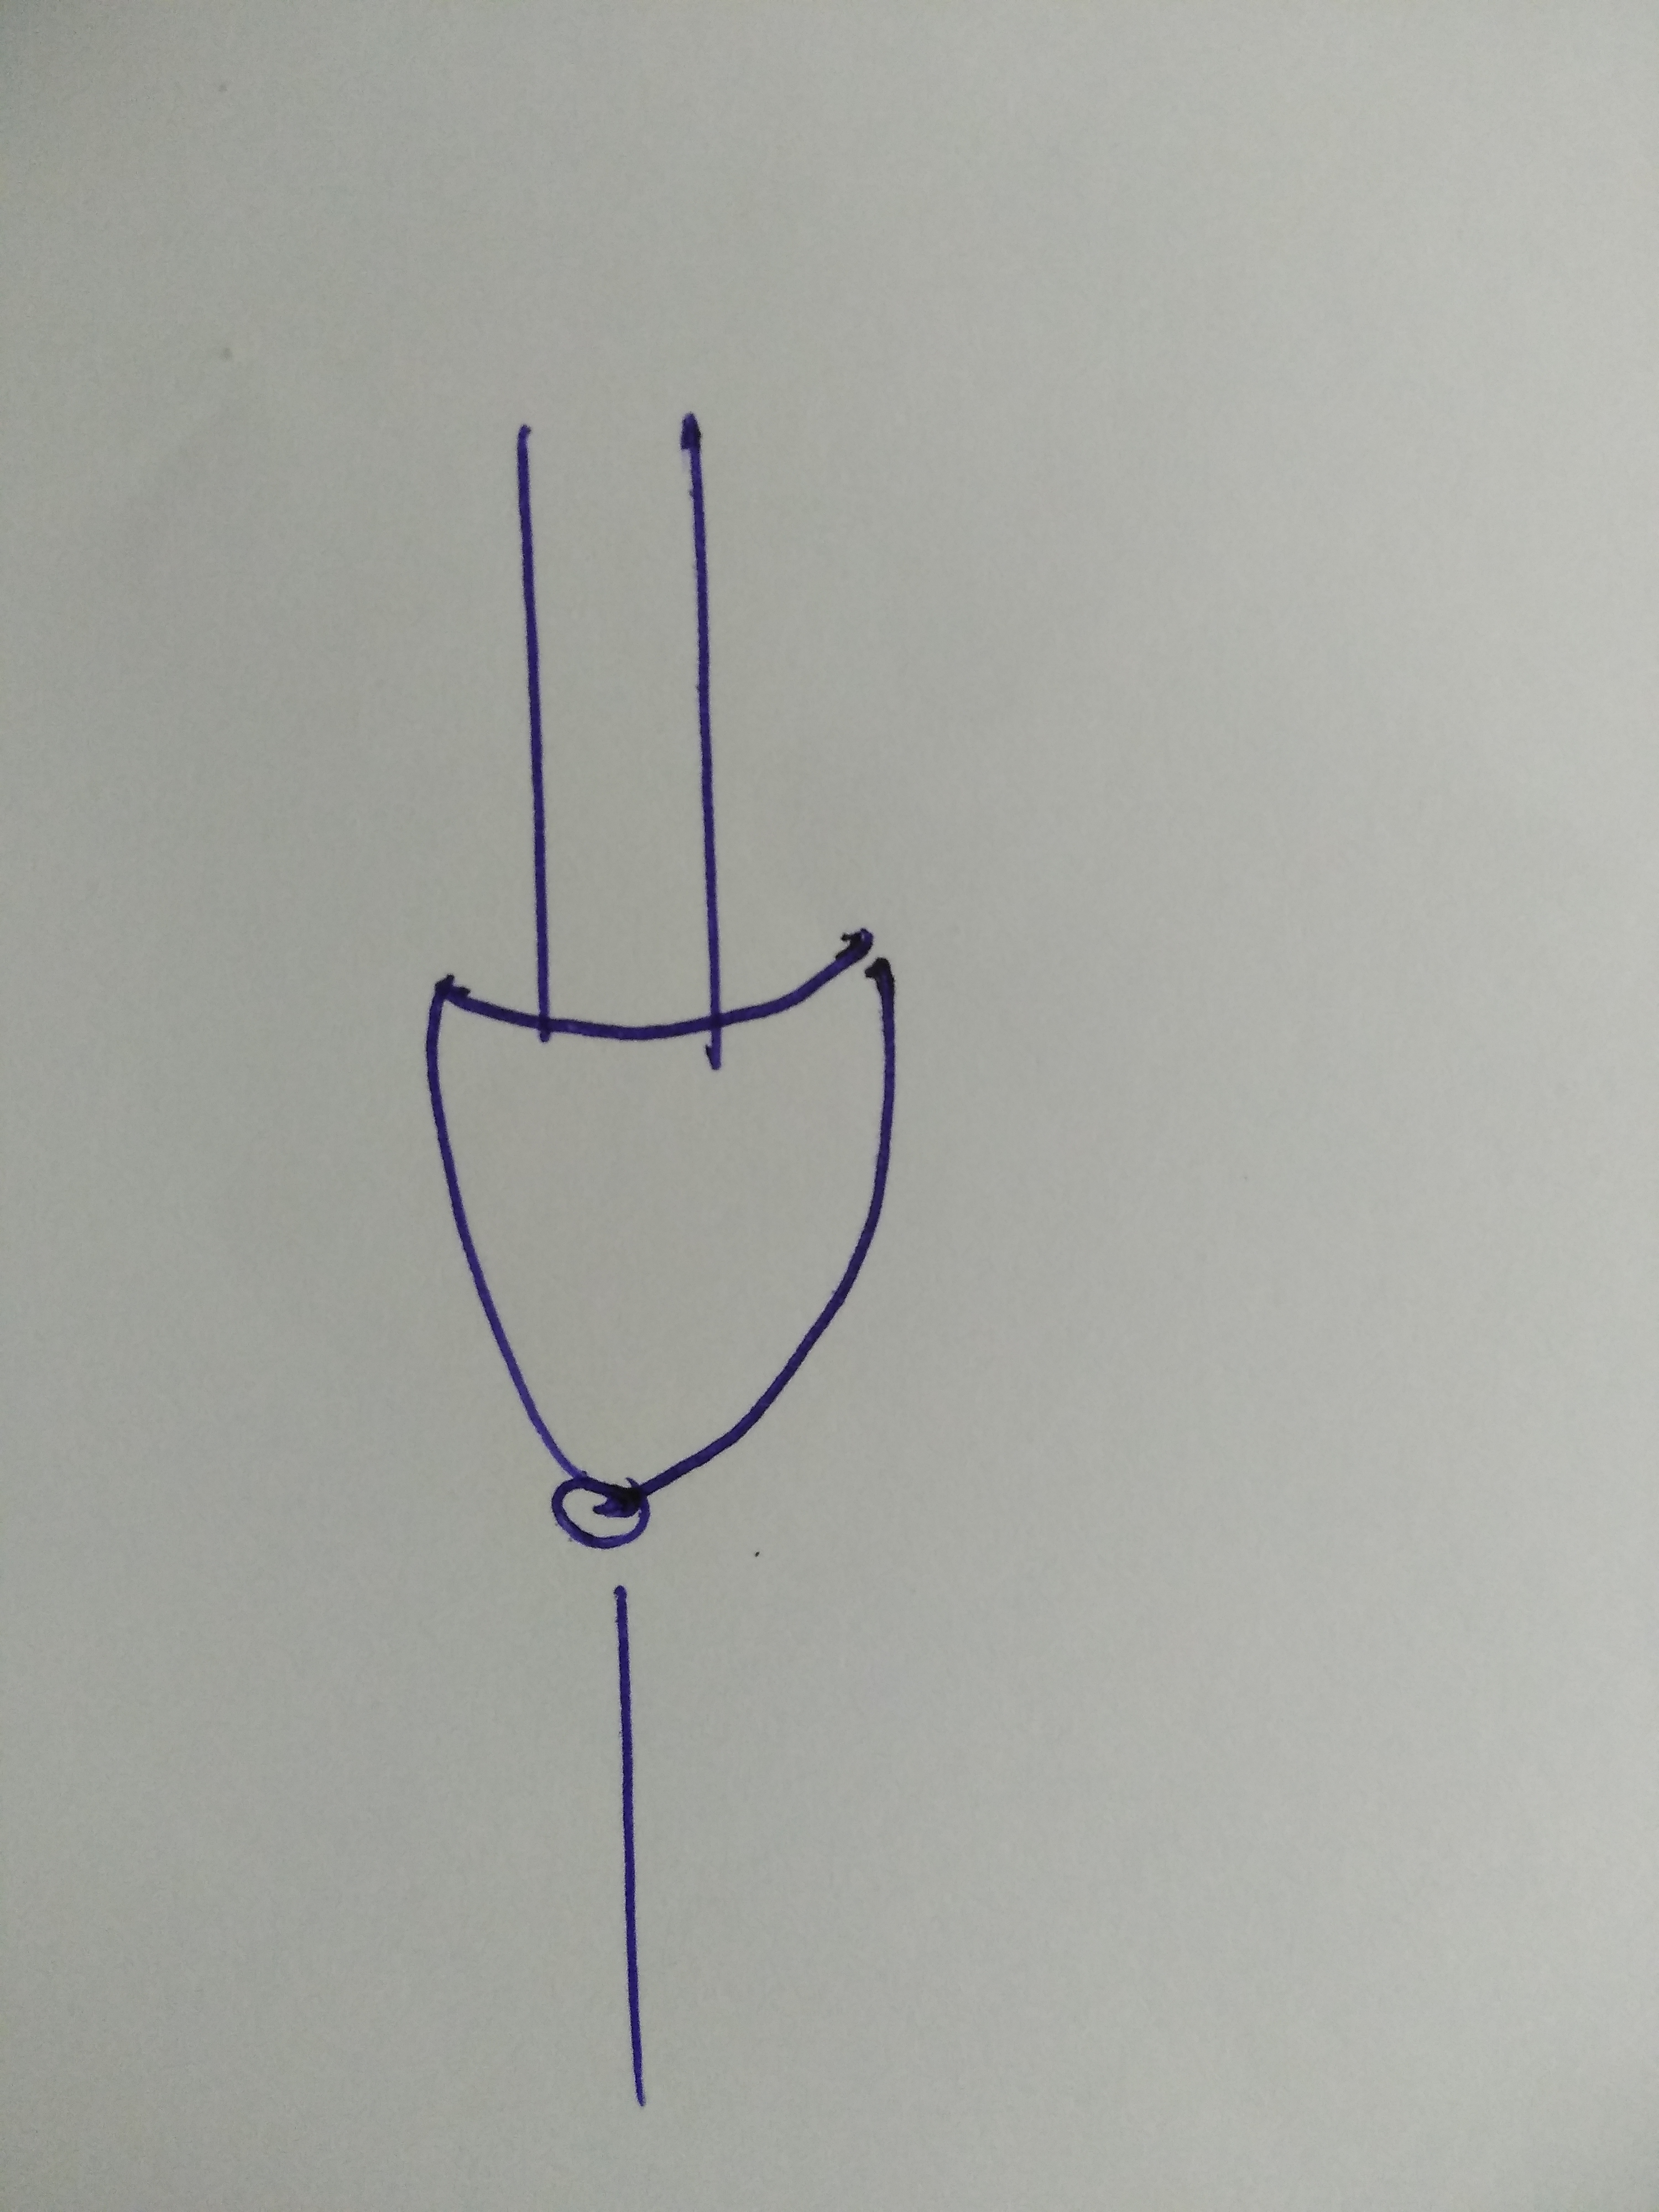nor: (279, 808, 999, 1745)
